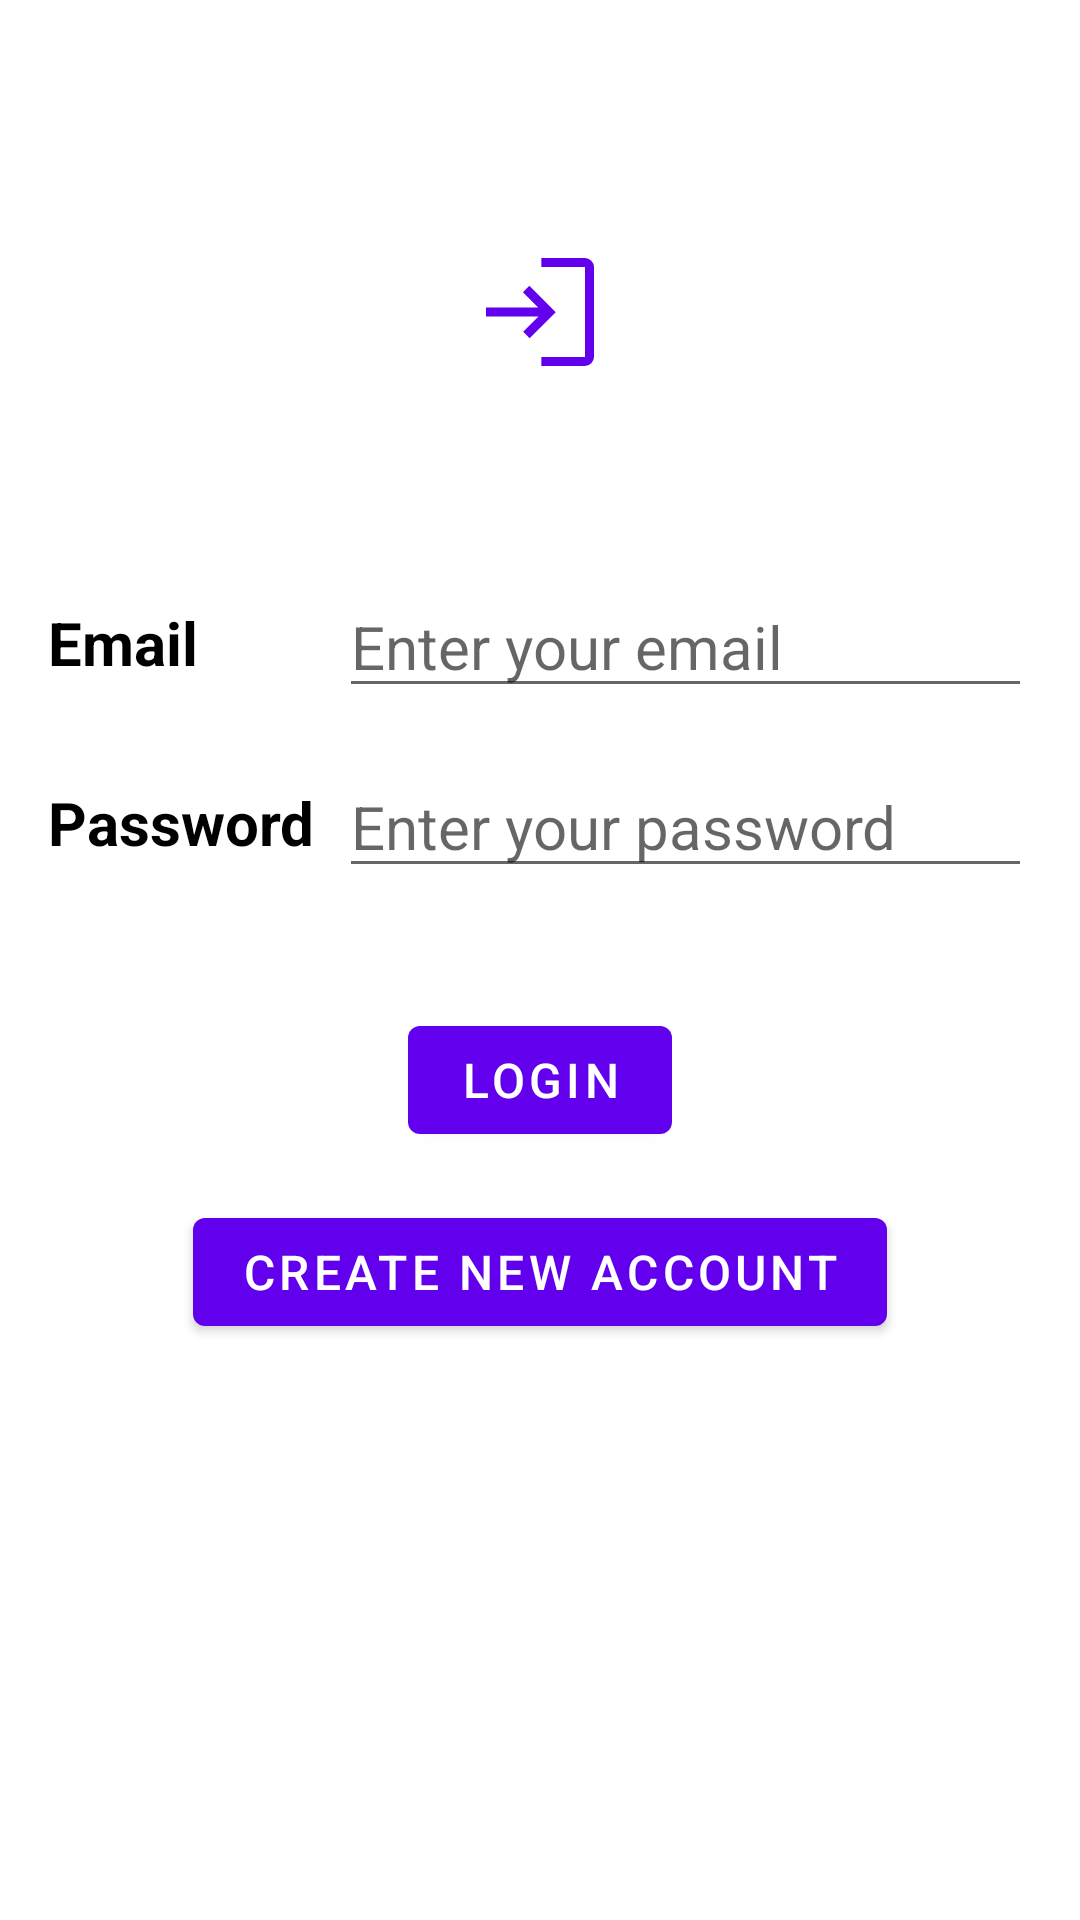

Named icons in this screenshot (1080w x 1920h) and their centers, (x,y):
login: (540,312)
